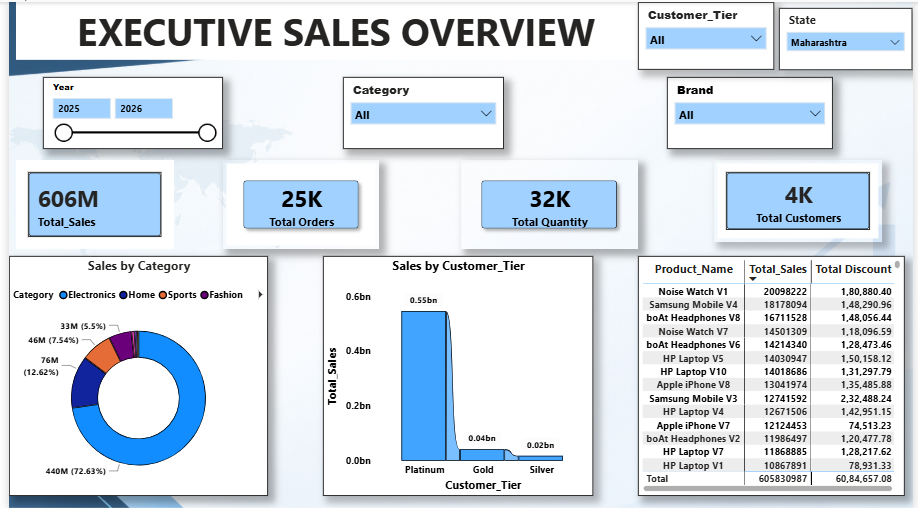

The dashboard page shown, as its layout file describes it:
{"tool":"powerbi","page":{"name":"Executive Sales Overview","canvas":[1280,720],"ordinal":1},"visuals":[{"type":"textbox","box":[9.9,0,907.1,82.2],"z":0},{"type":"slicer","fields":{"Values":["DimDate.Year"]},"box":[48.2,106.3,255.1,102],"z":1000},{"type":"slicer","fields":{"Values":["DimProducts.Category"]},"box":[473.4,106.3,228.2,102],"z":2000},{"type":"slicer","fields":{"Values":["DimProducts.Brand"]},"box":[932.6,106.3,235.3,102],"z":3000},{"type":"slicer","fields":{"Values":["DimCustomers.Customer_Tier"]},"box":[891.5,0,192.8,96.4],"z":4000},{"type":"slicer","fields":{"Values":["DimCustomers.State"]},"box":[1091.3,8.5,188.5,87.9],"z":5000},{"type":"cardVisual","fields":{"Data":["FactSales.Total_Sales"]},"box":[9.9,223.9,223.9,126.1],"z":6000},{"type":"cardVisual","fields":{"Data":["FactSales.Total Orders"]},"box":[303.3,223.9,221.1,126.1],"z":7000},{"type":"cardVisual","fields":{"Data":["FactSales.Total Quantity"]},"box":[640.6,223.9,250.9,126.1],"z":8000},{"type":"cardVisual","fields":{"Data":["FactSales.Total Customers"]},"box":[999.2,223.9,238.1,116.2],"z":9000},{"type":"donutChart","title":"Sales by Category","fields":{"Category":["DimProducts.Category"],"Y":["FactSales.Total_Sales"]},"box":[0,360,367.1,340.2],"z":10000},{"type":"columnChart","title":"Sales by Customer_Tier","fields":{"Category":["DimCustomers.Customer_Tier"],"Y":["FactSales.Total_Sales"]},"box":[445,360,382.7,340.2],"z":11000},{"type":"tableEx","fields":{"Values":["DimProducts.Product_Name","FactSales.Total_Sales","FactSales.Total Discount"]},"box":[891.5,360,378.4,340.2],"z":12000}]}

Visuals, with their boxes in screenshot pixels (x1, y1, x2, y2), scaled from the page's 1280x720 canvas onto the 918x508 screenshot:
textbox: crop(7, 0, 658, 58)
slicer - DimDate.Year: crop(35, 75, 218, 147)
slicer - DimProducts.Category: crop(340, 75, 503, 147)
slicer - DimProducts.Brand: crop(669, 75, 838, 147)
slicer - DimCustomers.Customer_Tier: crop(639, 0, 778, 68)
slicer - DimCustomers.State: crop(783, 6, 917, 68)
cardVisual - FactSales.Total_Sales: crop(7, 158, 168, 247)
cardVisual - FactSales.Total Orders: crop(218, 158, 376, 247)
cardVisual - FactSales.Total Quantity: crop(459, 158, 639, 247)
cardVisual - FactSales.Total Customers: crop(717, 158, 887, 240)
"Sales by Category" donutChart: crop(0, 254, 263, 494)
"Sales by Customer_Tier" columnChart: crop(319, 254, 594, 494)
tableEx - DimProducts.Product_Name x FactSales.Total_Sales: crop(639, 254, 911, 494)
